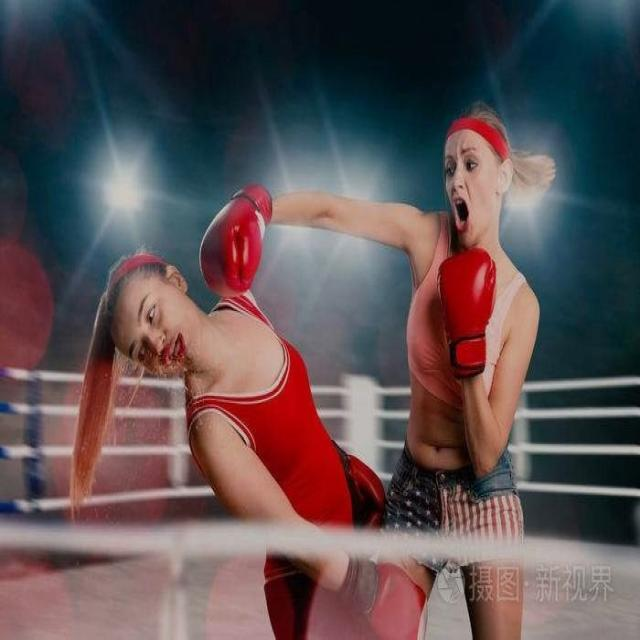fight: (73, 110, 556, 640)
